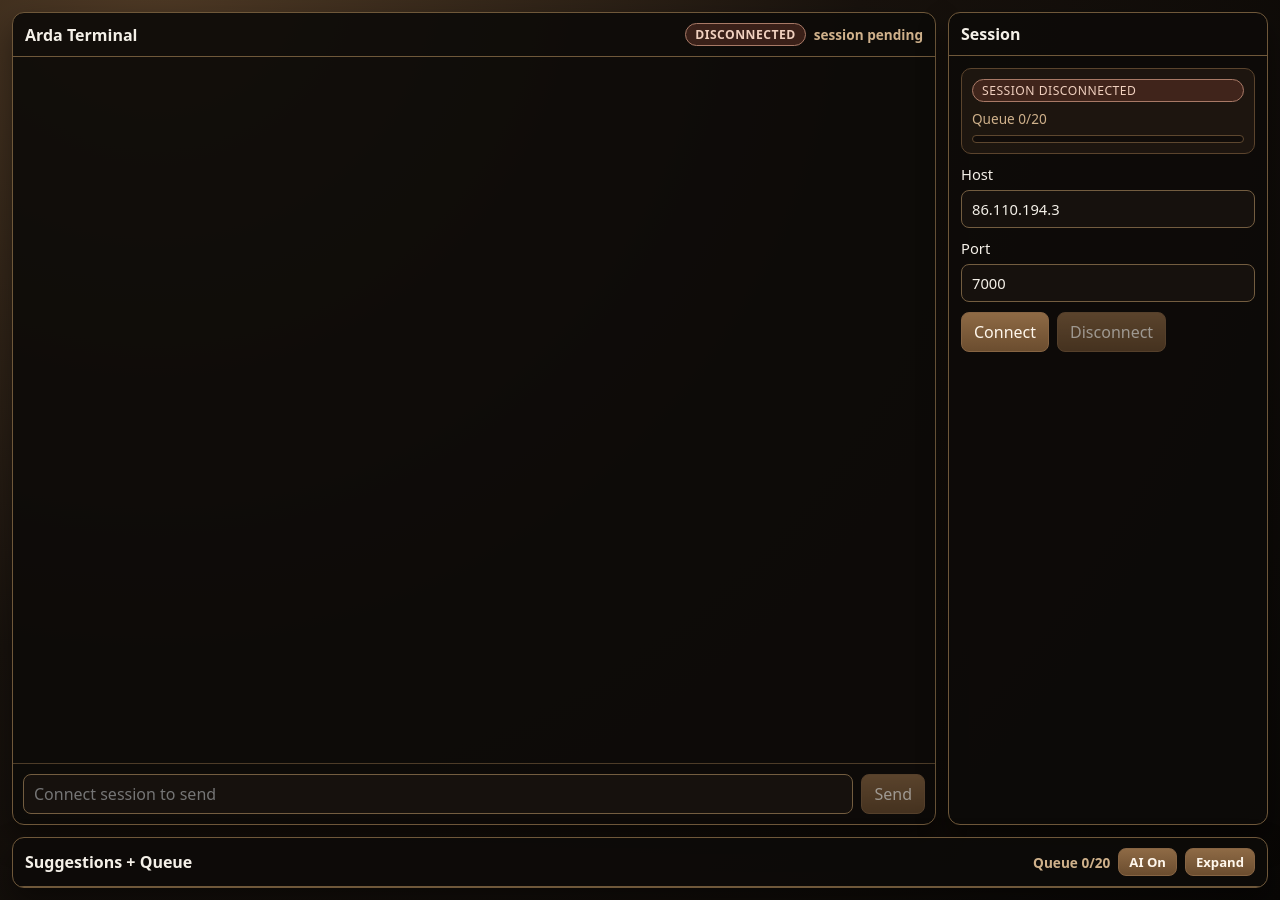
App suggestions › renders suggestion reason/outcome and command buttons
This screenshot has width=1280, height=900.
What coordinates should you click on to do the following:
click the button "Expand"
I would click on:
 (1220, 862)
Its box is [1185,848,1255,876].
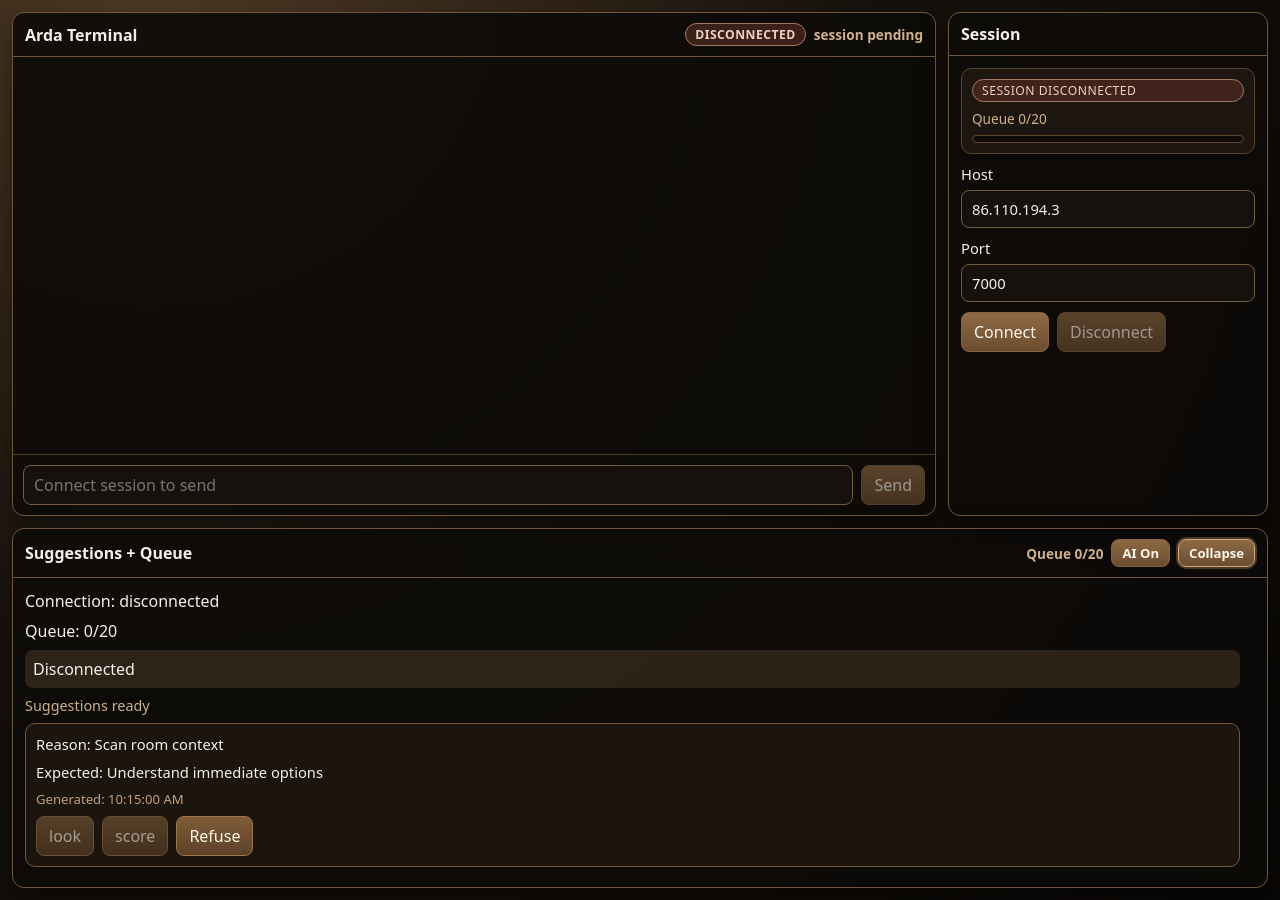
Check: the text "Reason: Scan room context" is shown, box [36,734,224,754]
Check: the text "Expected: Understand immediate options" is shown, box [36,762,323,782]
Check: the button "look" is shown, box [36,816,94,856]
